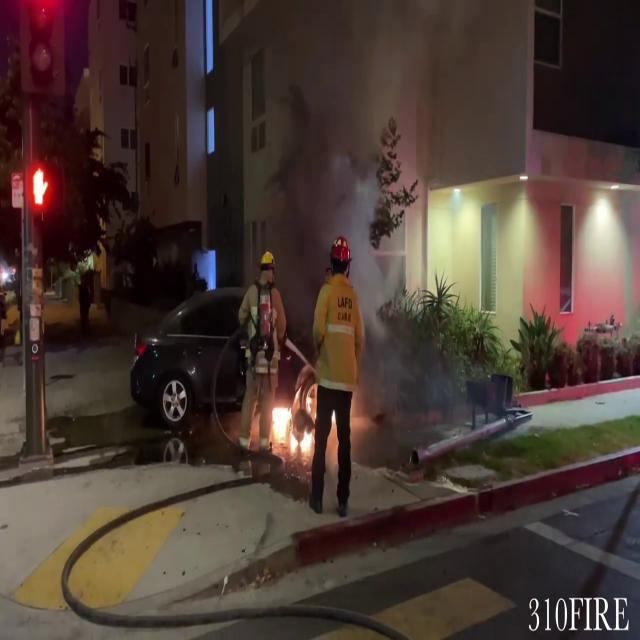Fire: (264, 388, 316, 462)
Smoke: (252, 0, 520, 265)
